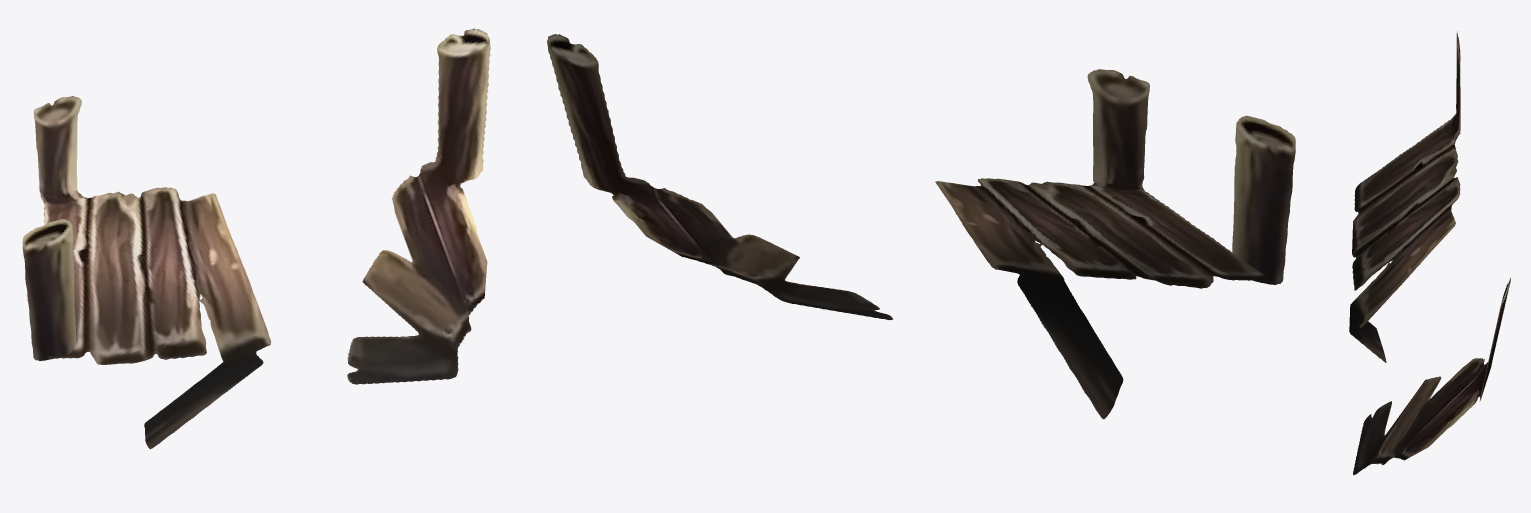
The model's file is Broken Bridge.FBX.
3 views of the same model, side by side, from view 1: azimuth 30°, elevation 25°; view 2: azimuth 150°, elevation 25°; view 3: azimuth 270°, elevation 25° (orthographic). The views are drawn at different scales.
Visible parts, largest first — view 1: Broken Bridge; view 2: Broken Bridge; view 3: Broken Bridge.
Boxes of the visible parts, x1=… form: Broken Bridge: x1=22, y1=28, x2=490, y2=449; Broken Bridge: x1=547, y1=34, x2=1295, y2=419; Broken Bridge: x1=1349, y1=31, x2=1510, y2=475.
Bounding box in the file's own units: 507 × 155 × 333.
